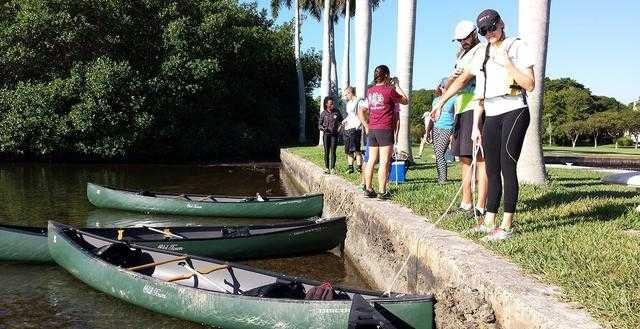kayak: (47, 221, 435, 327), (131, 215, 341, 261), (86, 182, 327, 220), (0, 224, 53, 264)
